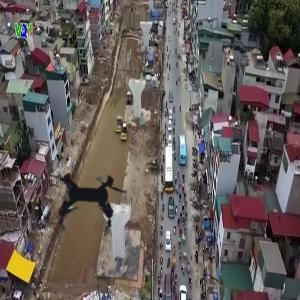drone: (24, 131, 159, 266)
